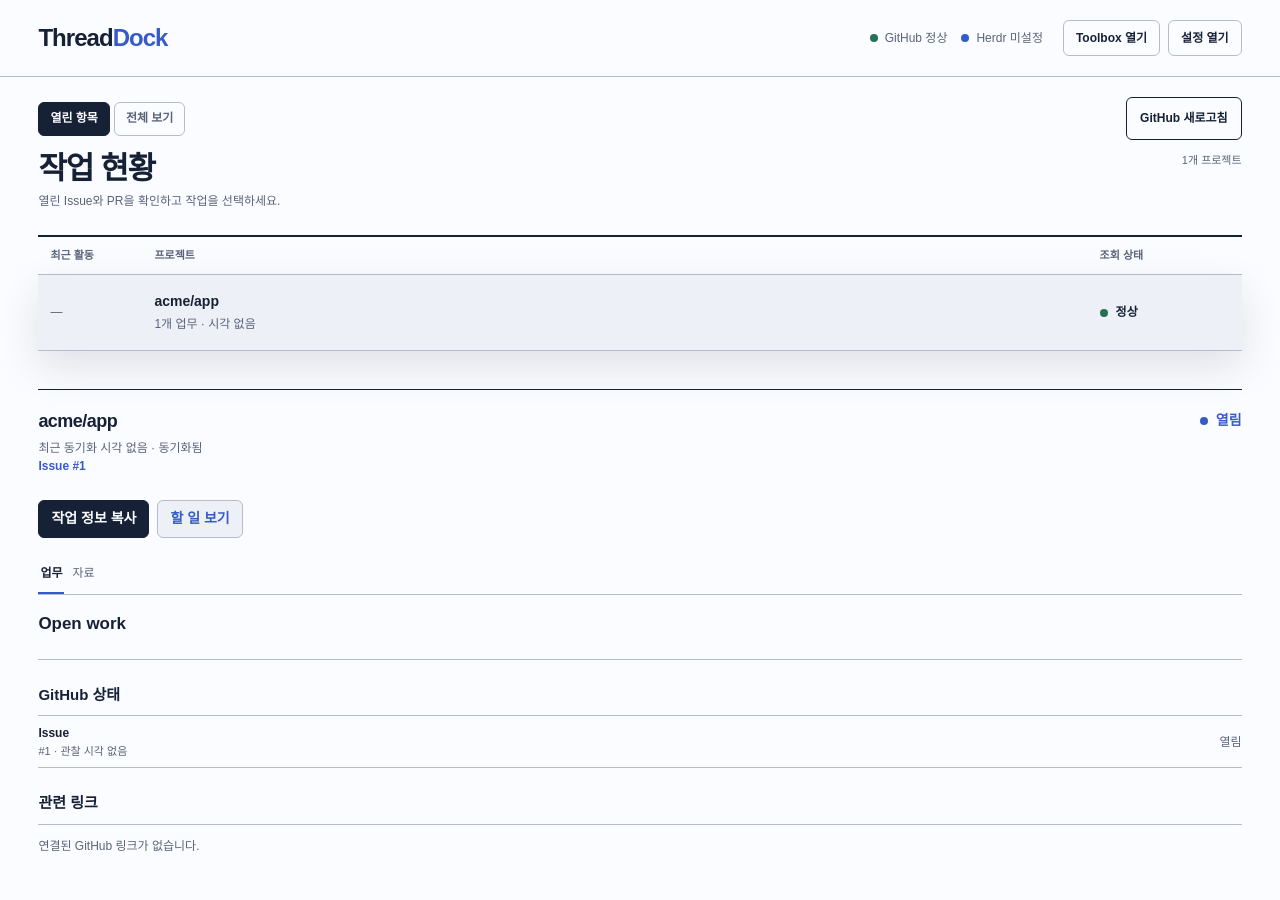
work history scope › retries a failed global load when the drawer is closed and reopened
Click the button "Toolbox 열기" at (1112,38), box [1063,20,1160,56]
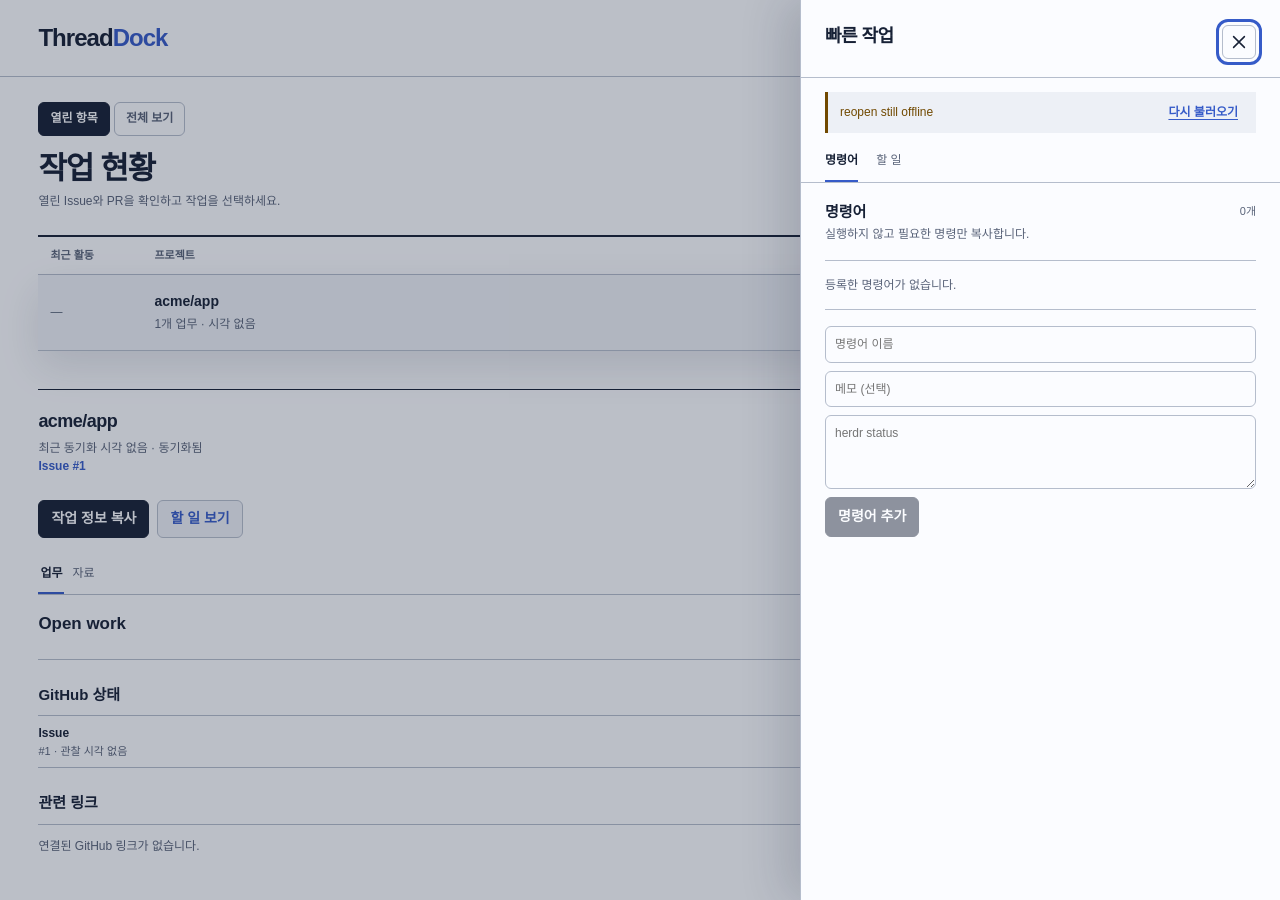
Check: the message shows "reopen still offline", box [840,105,933,119]
Click the button named "닫기" at (1239,42), box [1222,25,1256,59]
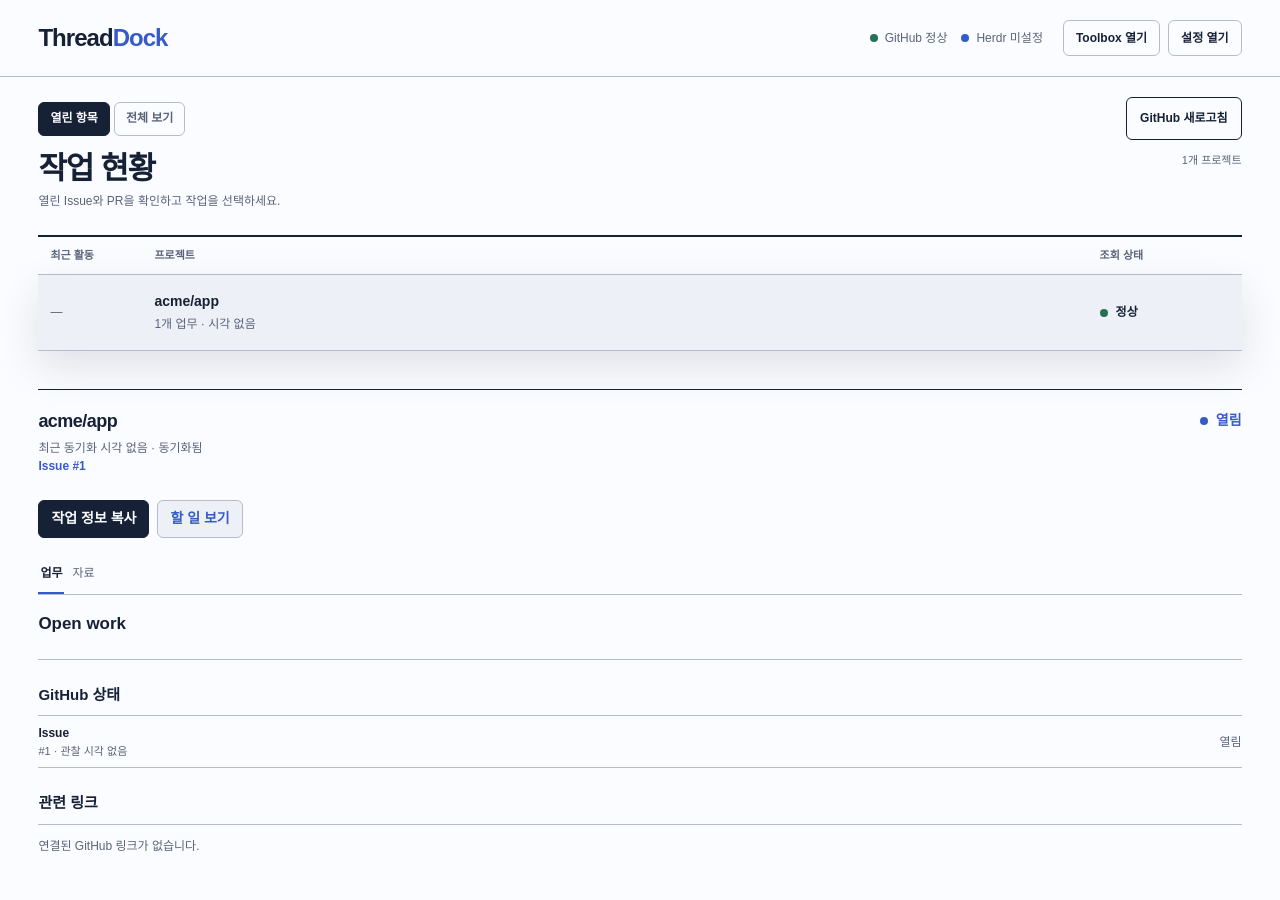
Click the button "Toolbox 열기" at (1112,38), box [1063,20,1160,56]
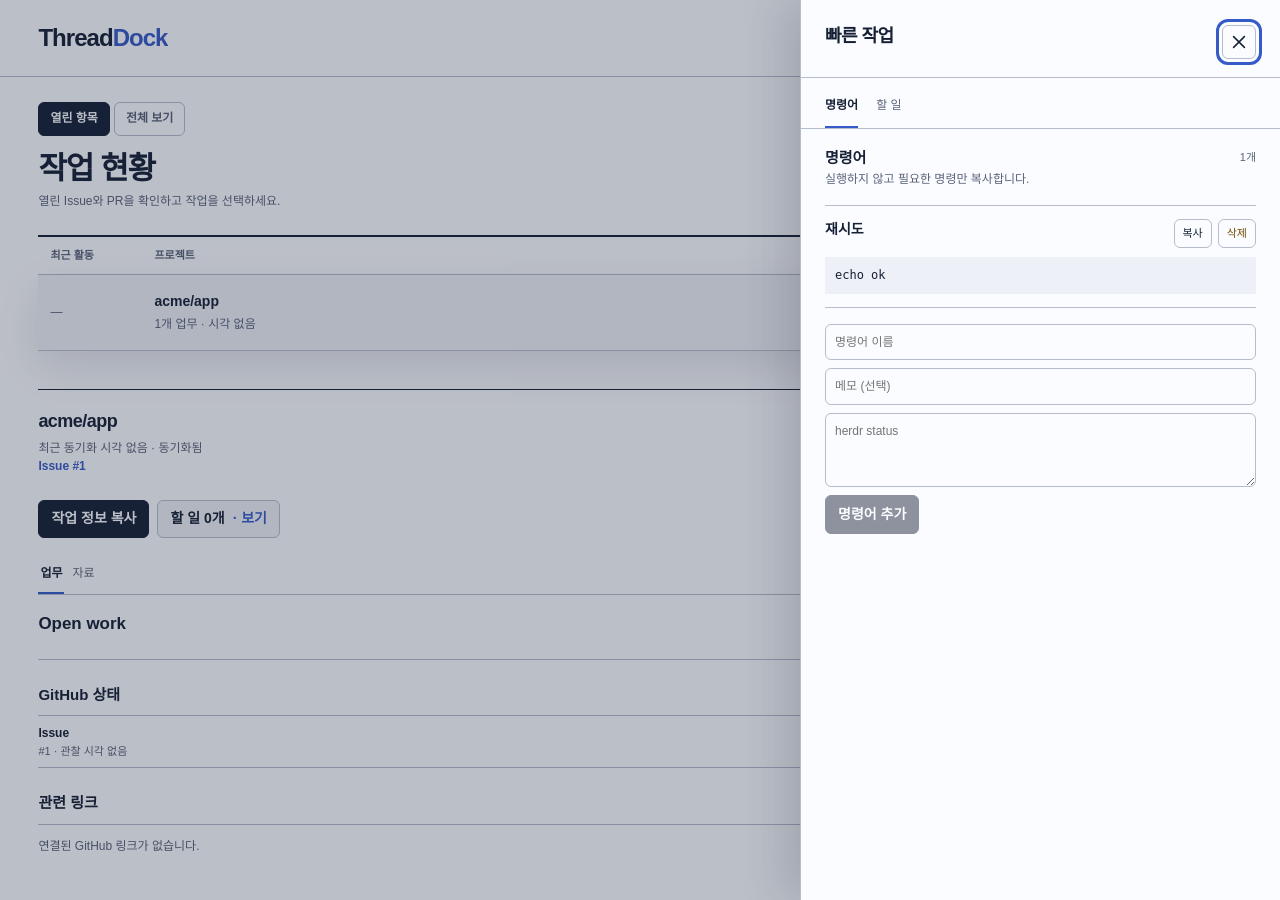
Check: the text "echo ok" is shown, box [835,268,886,282]
